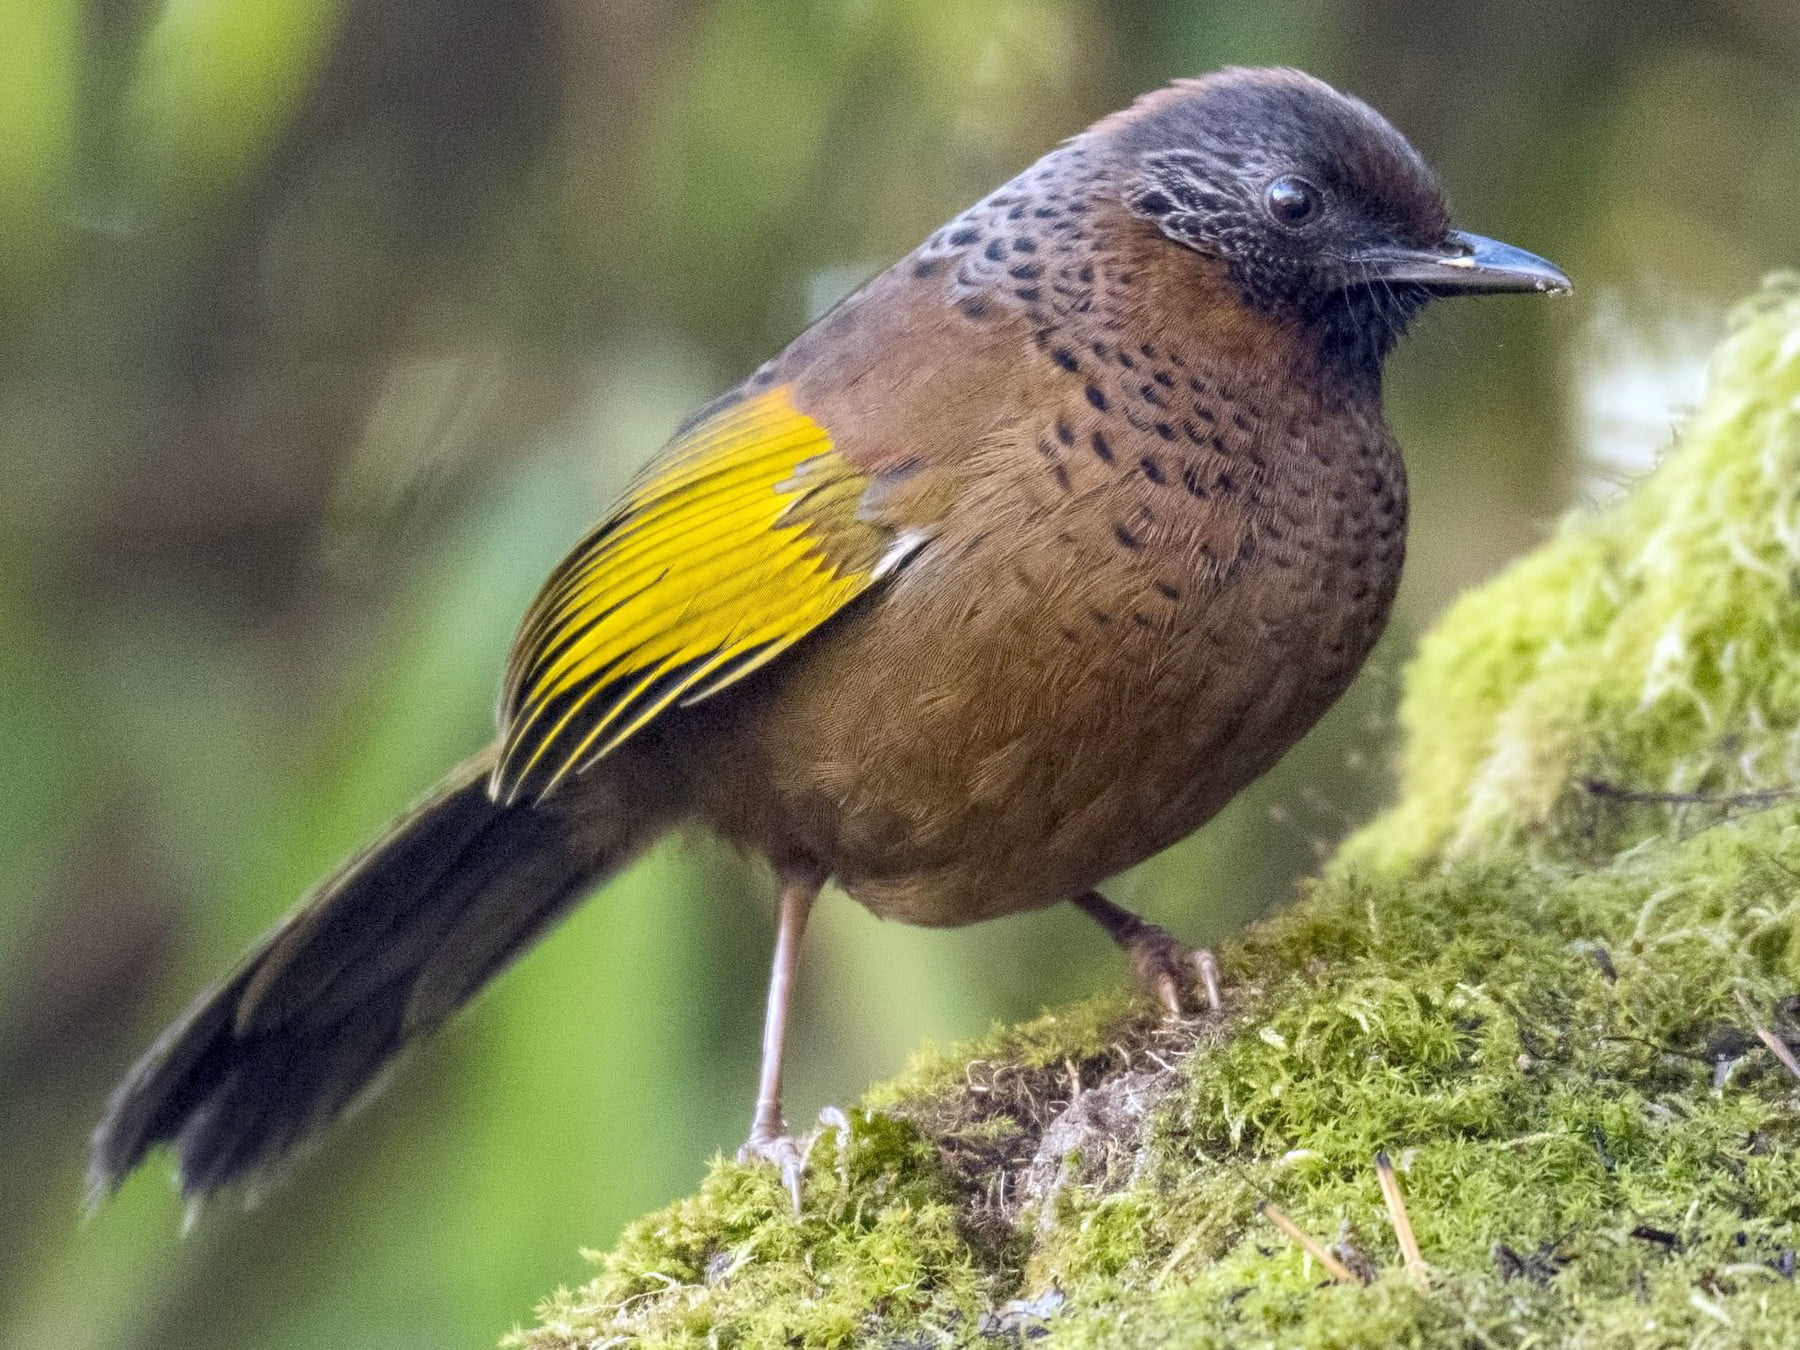bird: (51, 51, 1626, 1271)
